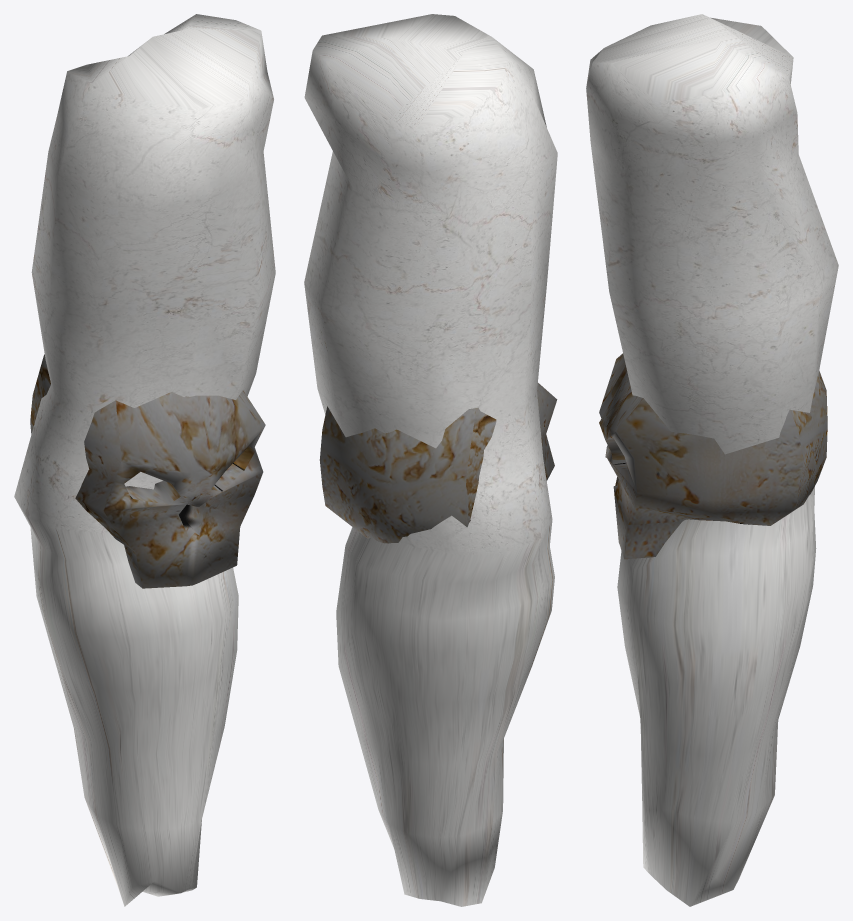
File: NinjunblinRobloxAsset.fbx
The picture shows the model from 3 angles, left to right: view 1: azimuth 30°, elevation 25°; view 2: azimuth 150°, elevation 25°; view 3: azimuth 270°, elevation 25°; orthographic projection. The views are drawn at different scales.
Visible parts, largest first — view 1: ArmL, Skull2; view 2: ArmL, Skull2; view 3: ArmL, Skull2.
Part boxes in pixels (x1,y1,x2,y2): ArmL: [14, 14, 275, 906]; Skull2: [30, 354, 265, 588]; ArmL: [304, 14, 557, 906]; Skull2: [319, 383, 557, 543]; ArmL: [586, 14, 838, 906]; Skull2: [599, 353, 827, 559].
Bounding box in the file's own units: 0.3739 × 1.3 × 0.3425.
